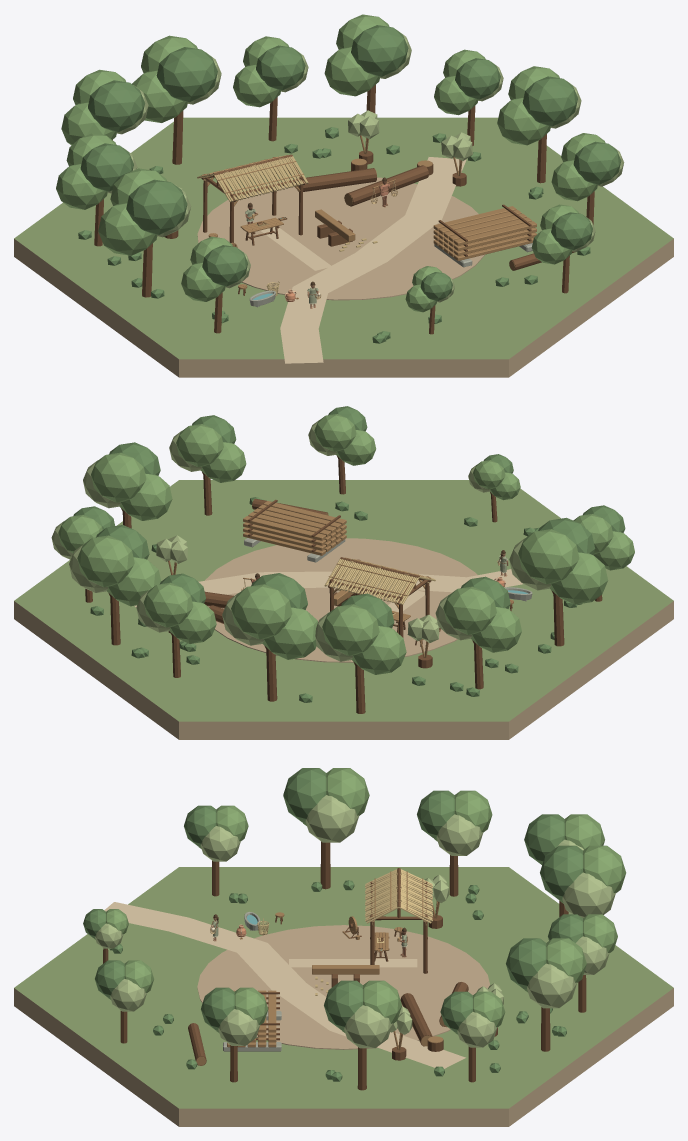
Rendered from woodland-worksite.glb.
3 views of the same model, one above another, from view 1: azimuth 30°, elevation 25°; view 2: azimuth 150°, elevation 25°; view 3: azimuth 270°, elevation 25° (orthographic).
Parts seen in each view (by area): view 1: Woodland timber worksite batched; view 2: Woodland timber worksite batched; view 3: Woodland timber worksite batched.
Boxes of the visible parts, bbox=[...] form: Woodland timber worksite batched: bbox=[14, 14, 673, 377]; Woodland timber worksite batched: bbox=[14, 406, 673, 739]; Woodland timber worksite batched: bbox=[14, 768, 673, 1126].
Bounding box in the file's own units: 31.38 × 8.22 × 36.
